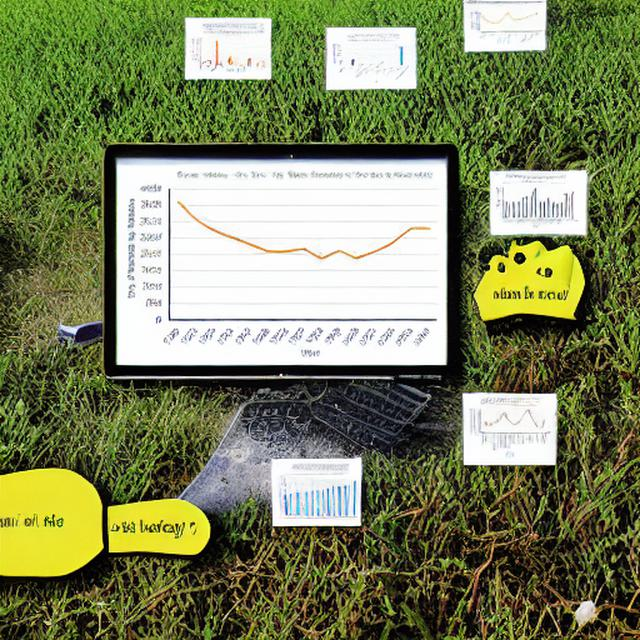Graph: (122, 166, 442, 364), (467, 399, 550, 456), (329, 35, 415, 87), (275, 471, 359, 523), (494, 175, 570, 231), (190, 30, 268, 77), (467, 2, 542, 47)
